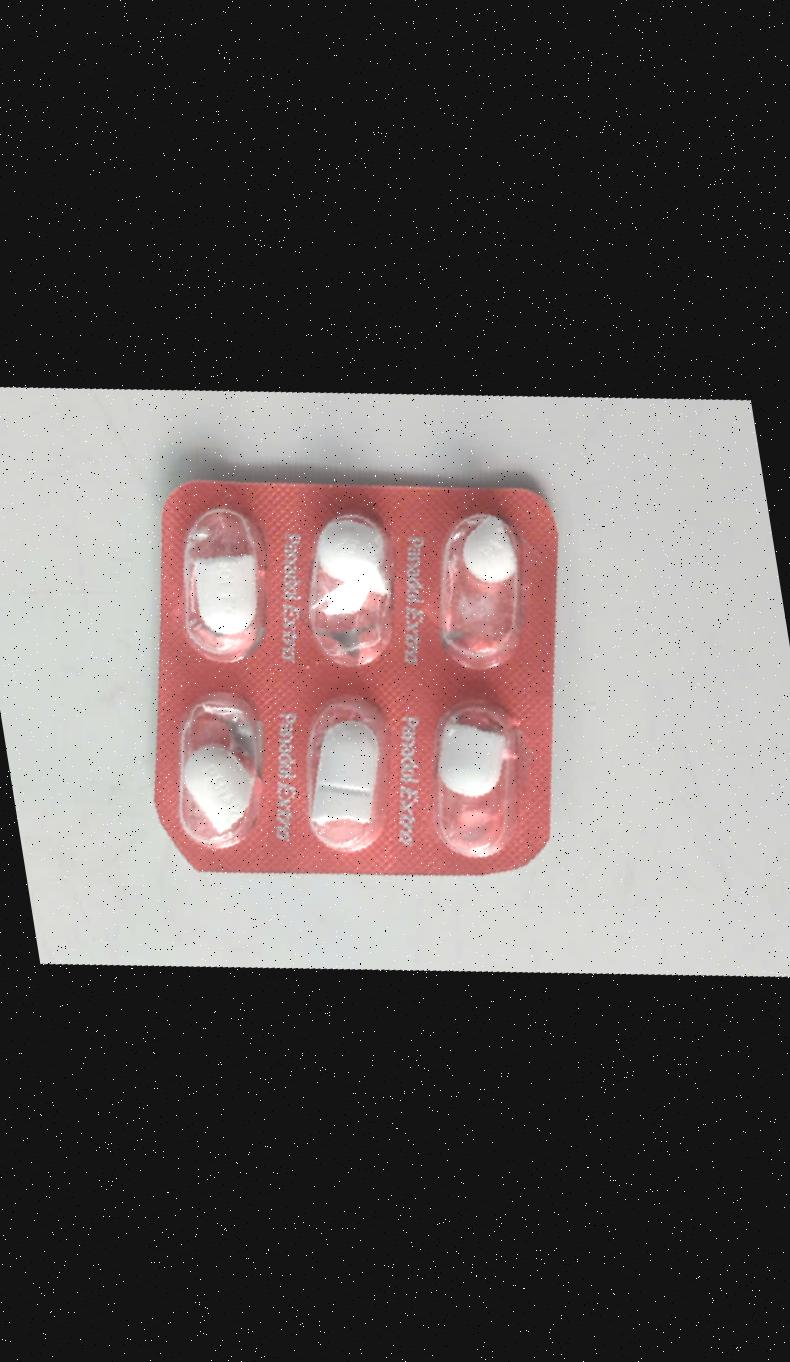Partial: (309, 507, 393, 678), (440, 502, 524, 672), (306, 689, 390, 859), (180, 495, 264, 665), (432, 695, 516, 865), (180, 696, 263, 867)
